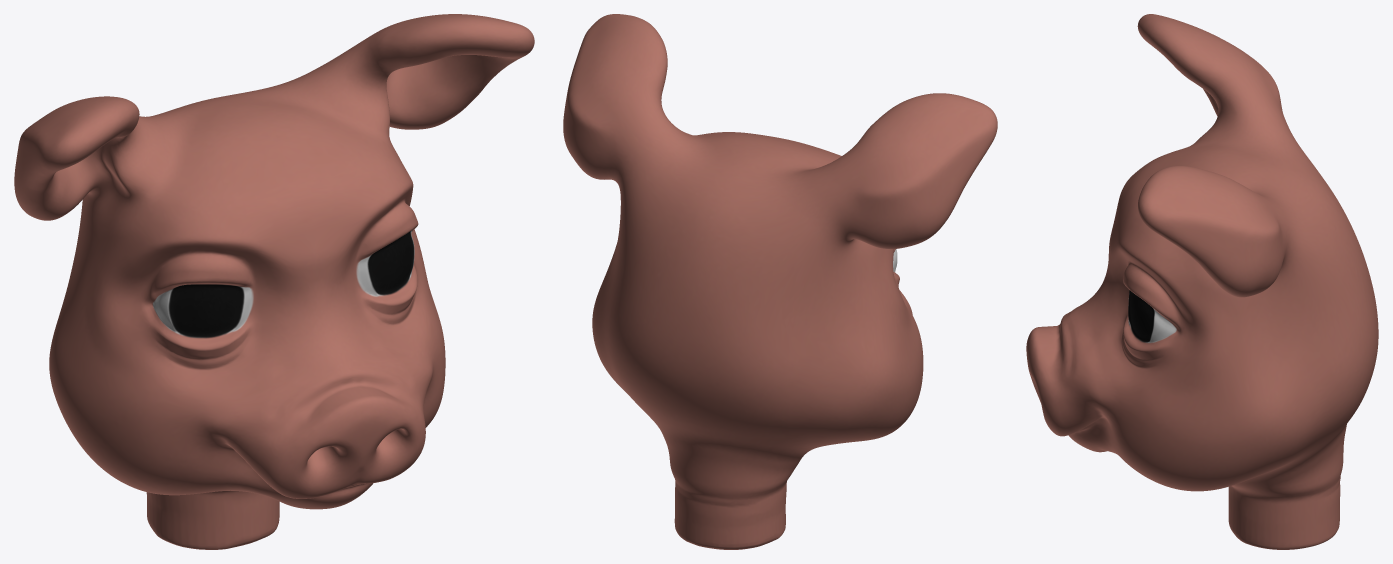
The model's file is Tete_Cochon.glb.
The picture shows the model from 3 angles, left to right: view 1: azimuth 30°, elevation 25°; view 2: azimuth 150°, elevation 25°; view 3: azimuth 270°, elevation 25°; orthographic projection. The views are drawn at different scales.
Parts seen in each view (by area): view 1: Tete_Cochon; view 2: Tete_Cochon; view 3: Tete_Cochon.
Part boxes in pixels (x1,y1,x2,y2): Tete_Cochon: (14, 14, 534, 549); Tete_Cochon: (563, 14, 997, 549); Tete_Cochon: (1026, 14, 1378, 549).
Bounding box in the file's own units: 5.04 × 5.08 × 3.76.
